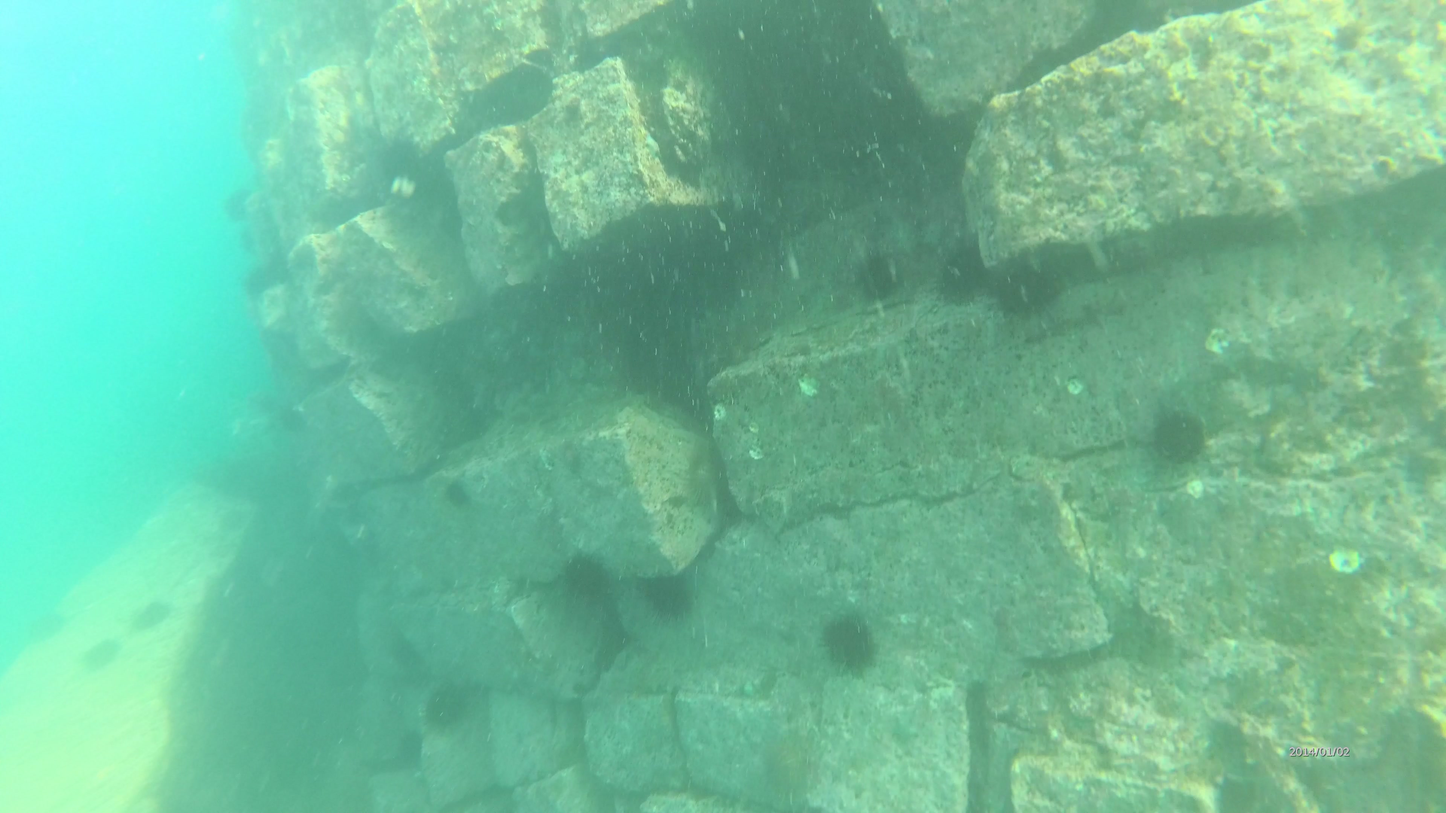starfish: (762, 728, 829, 808), (821, 613, 876, 685), (1150, 407, 1206, 468), (641, 565, 696, 625), (937, 250, 990, 310), (996, 262, 1053, 317), (420, 678, 472, 729), (564, 553, 610, 609), (857, 256, 906, 304), (75, 636, 123, 670), (435, 478, 479, 513), (393, 729, 430, 769), (131, 598, 170, 635), (29, 613, 69, 641)
